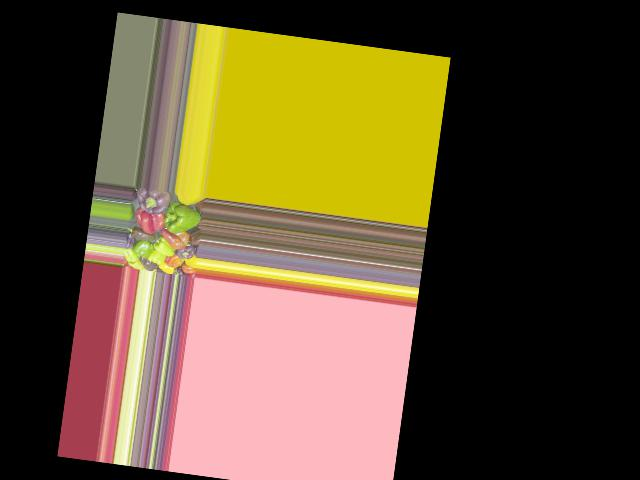bell_pepper: (175, 243, 197, 263)
